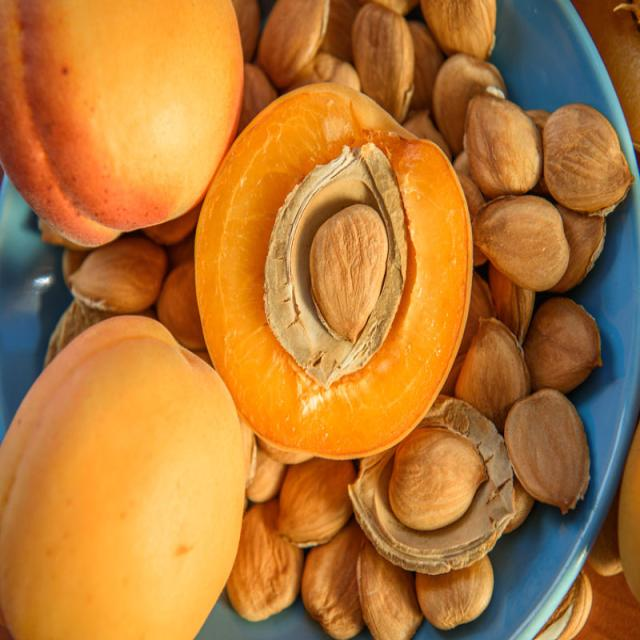cekirdek: (294, 178, 407, 352)
kayisi: (6, 370, 228, 636), (12, 7, 206, 185)
